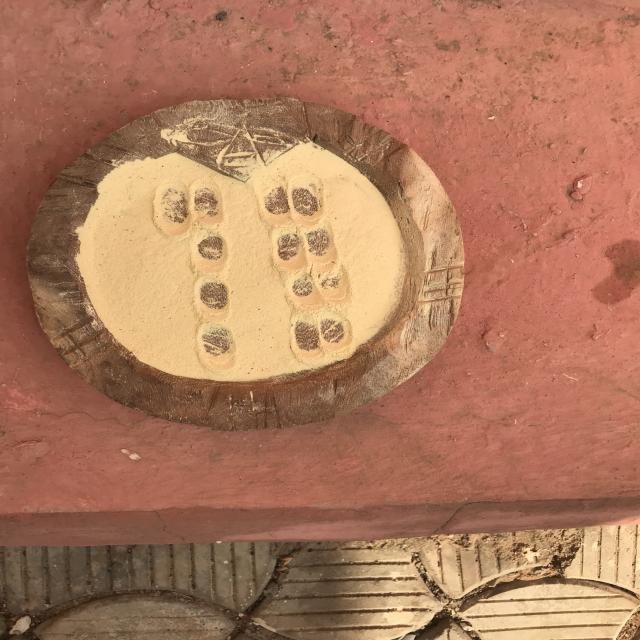double: (154, 176, 228, 236), (258, 171, 330, 229), (278, 264, 356, 311), (267, 226, 338, 272), (287, 309, 355, 357)
single: (192, 276, 235, 324), (199, 322, 236, 374), (192, 229, 230, 277)
